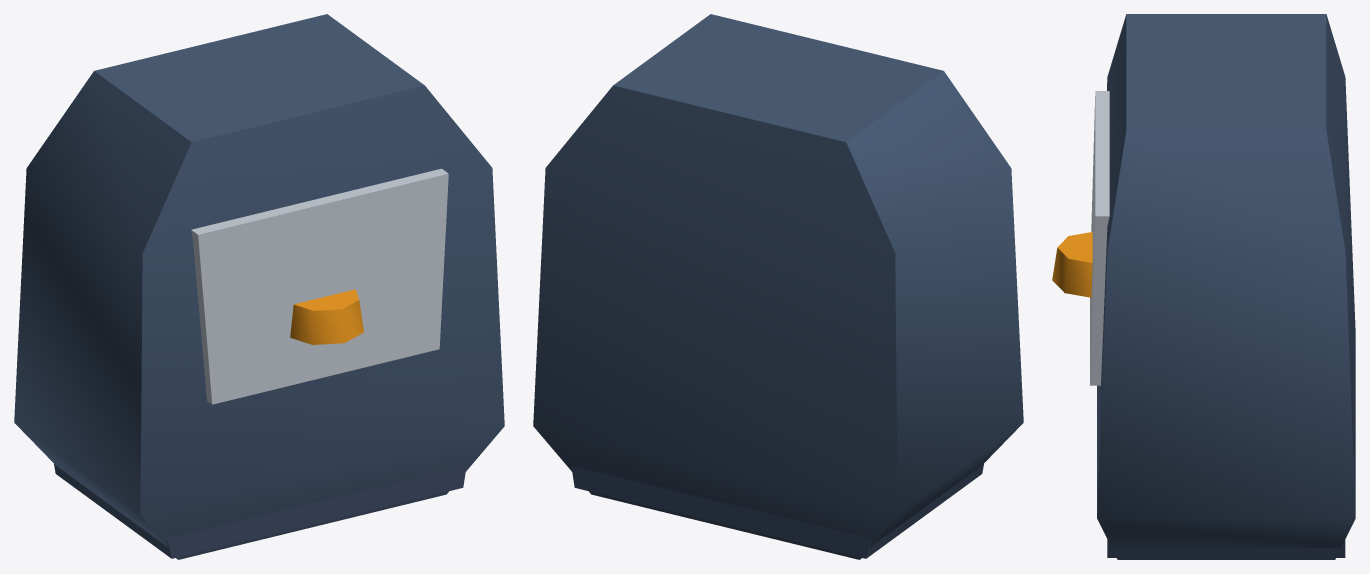
The model's file is Torso.glb.
3 renders of one model, left to right at view 1: azimuth 30°, elevation 25°; view 2: azimuth 150°, elevation 25°; view 3: azimuth 270°, elevation 25°, orthographic. The views are drawn at different scales.
Parts seen in each view (by area): view 1: mail, breastplate, waist, emblem; view 2: mail, waist; view 3: mail, breastplate, waist, emblem.
Part boxes in pixels (x1,y1,x2,y2): mail: (14, 14, 504, 559); breastplate: (191, 168, 448, 404); waist: (54, 464, 466, 558); emblem: (290, 289, 363, 344); mail: (533, 14, 1023, 559); waist: (571, 464, 983, 558); mail: (1097, 14, 1355, 559); breastplate: (1090, 91, 1109, 385); waist: (1107, 539, 1345, 557); emblem: (1052, 232, 1092, 297).
Bounding box in the file's own units: 2.5 × 2.69 × 1.76.
